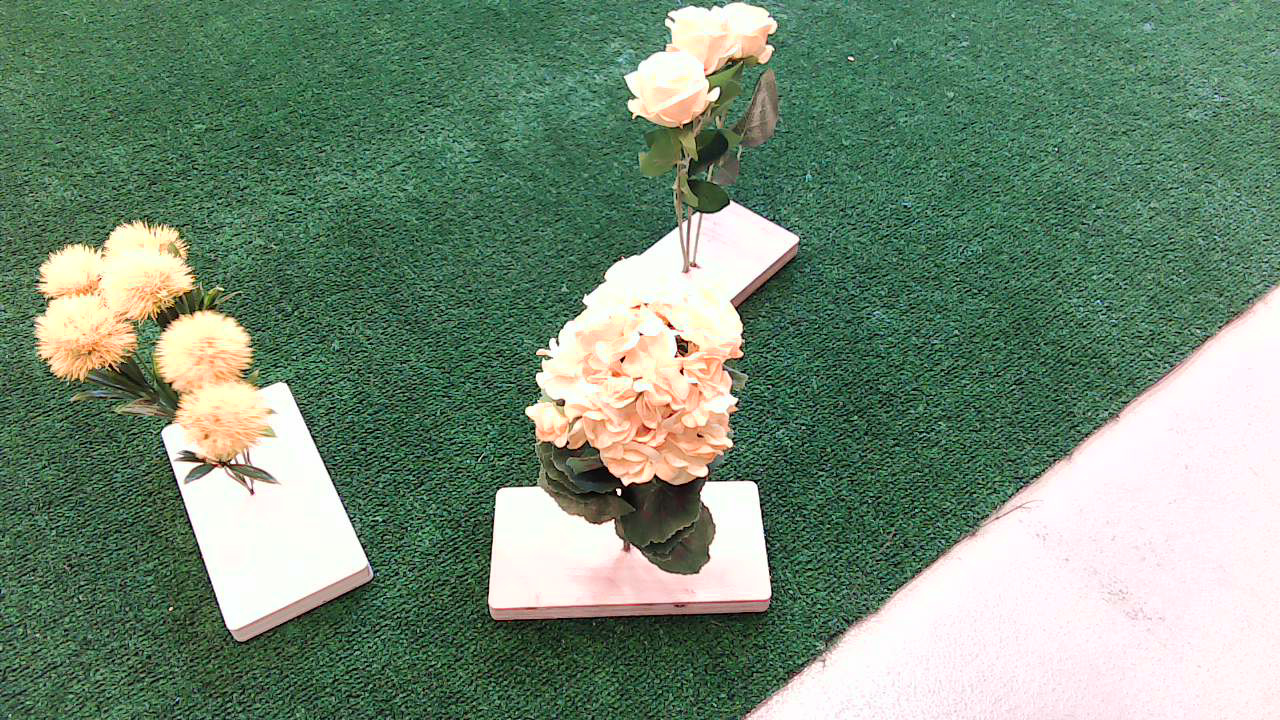dandelion: (27, 217, 359, 495)
geranium: (523, 312, 797, 592)
rose: (610, 7, 806, 228)
